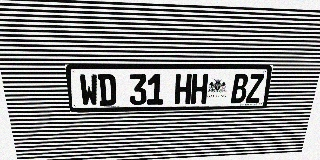1: (147, 74, 164, 105)
3: (129, 74, 146, 105)
B: (230, 74, 249, 103)
D: (97, 74, 116, 106)
H: (174, 74, 192, 104), (191, 74, 208, 104)
W: (79, 74, 99, 106)
Z: (245, 74, 264, 103)
